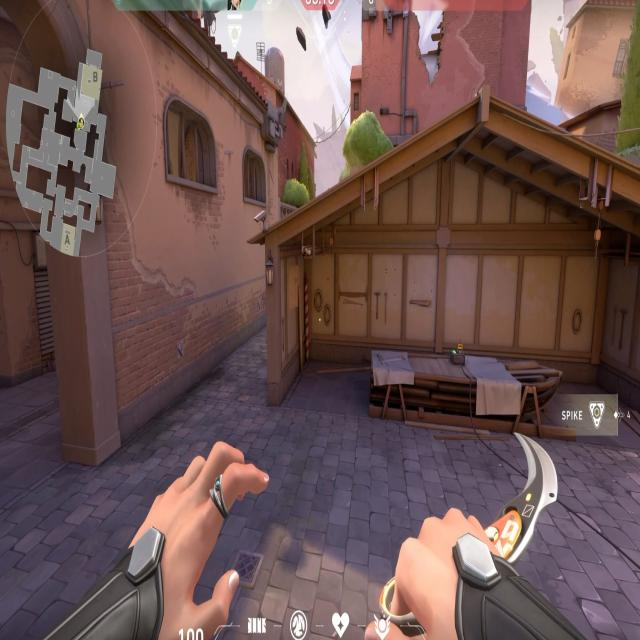B_Garage_Left: (247, 224, 386, 402)
B_Garage_Right: (542, 235, 639, 424)
Throwables: (159, 84, 226, 211), (240, 140, 276, 213)
